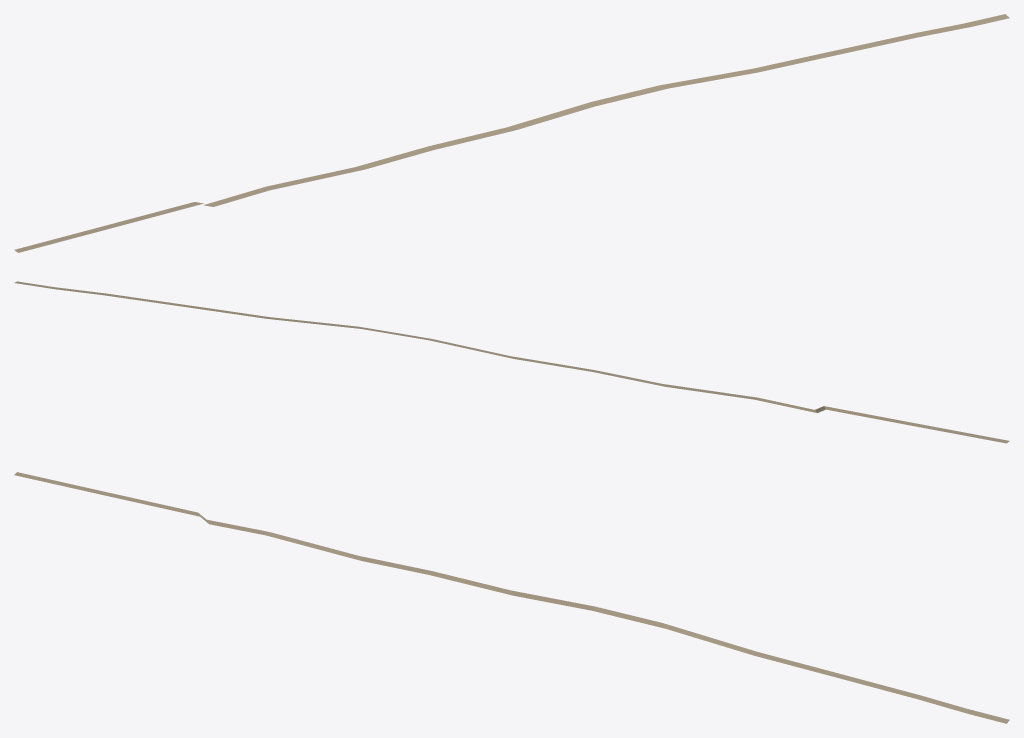
File: farm_-9_-11_track.glb
The picture shows the model from 3 angles, top to bottom: view 1: azimuth 30°, elevation 25°; view 2: azimuth 150°, elevation 25°; view 3: azimuth 330°, elevation 25°; orthographic projection. The views are drawn at different scales.
Parts seen in each view (by area): view 1: geometry_0; view 2: geometry_0; view 3: geometry_0.
Boxes of the visible parts, <box> form: geometry_0: <box>14,14,1009,252</box>; geometry_0: <box>14,281,1009,443</box>; geometry_0: <box>14,472,1009,723</box>.
Size of the model in its own units: 488 by 21.93 by 37.84.
